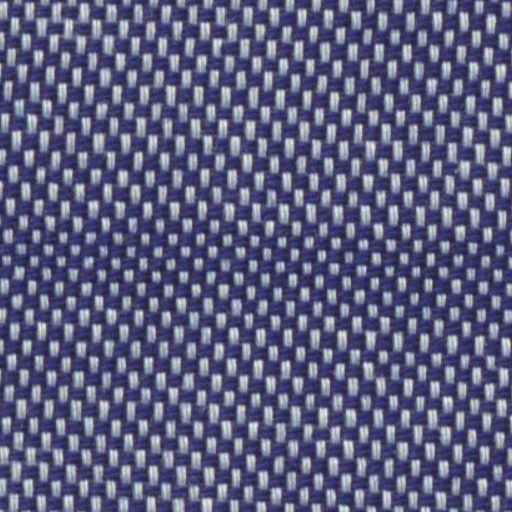TuoSha: (10, 214, 488, 327)
